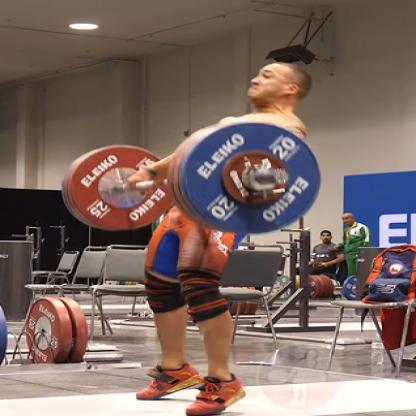barbell: (60, 118, 322, 235)
